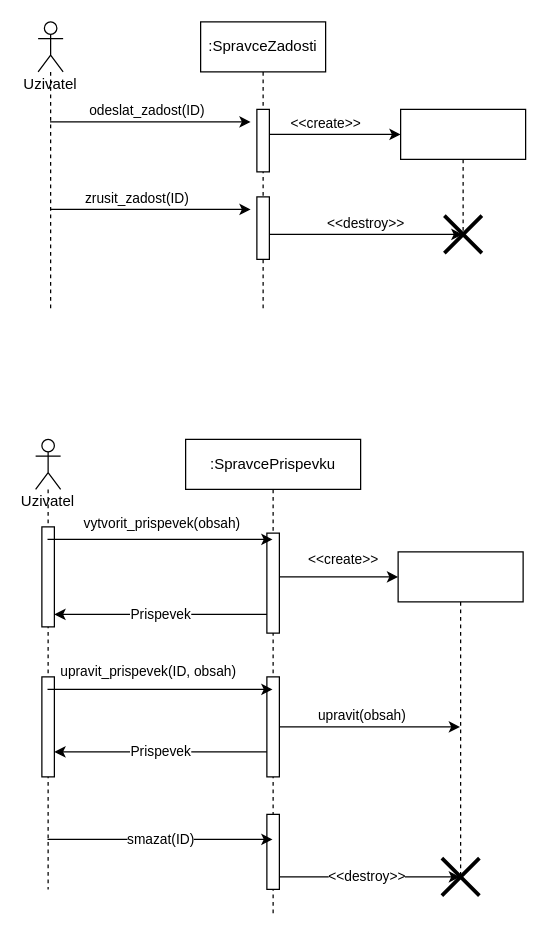
Image size: 548x936. Some labels were removed from this diagram. The shapes that lost their labels are listed below. From the top down, each one's box as (x1, y1, x2, y2) in pixels, then its label:
(399, 108, 526, 234): :Zadost
(397, 551, 523, 877): :Prispevek
